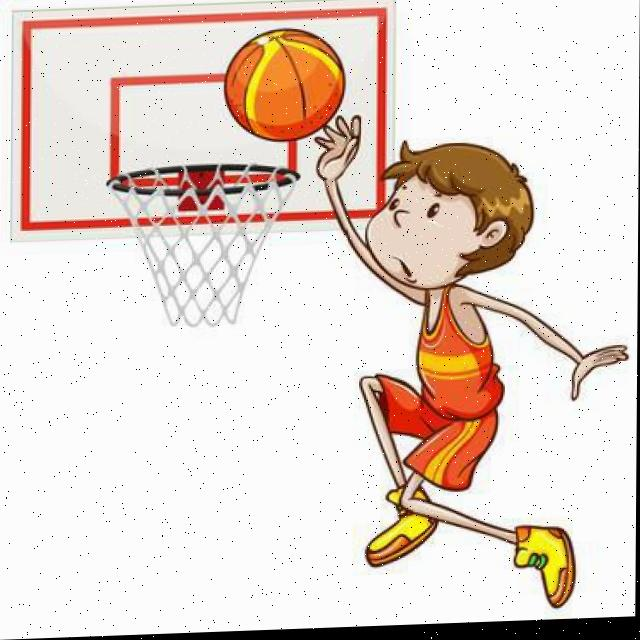basketball: (225, 26, 346, 143)
hoop: (106, 160, 300, 329)
